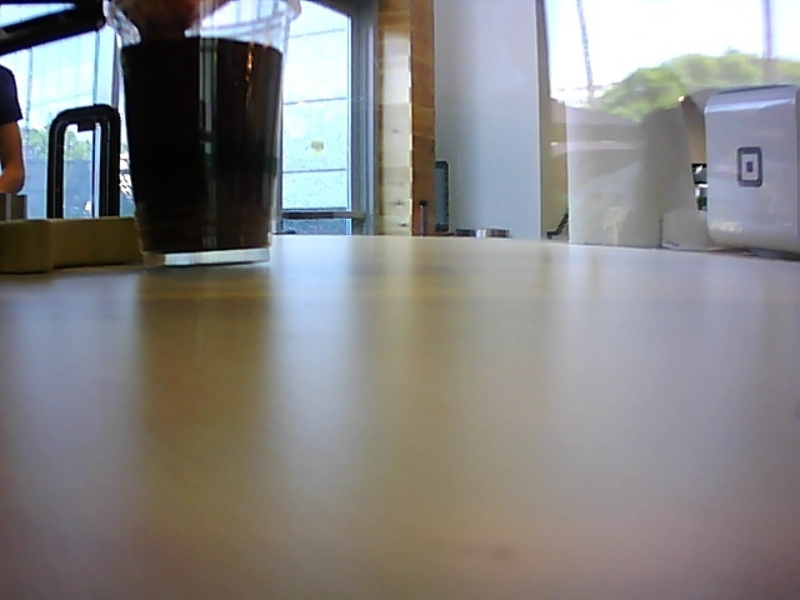cup: (99, 1, 302, 275)
limit: (116, 23, 287, 58)
